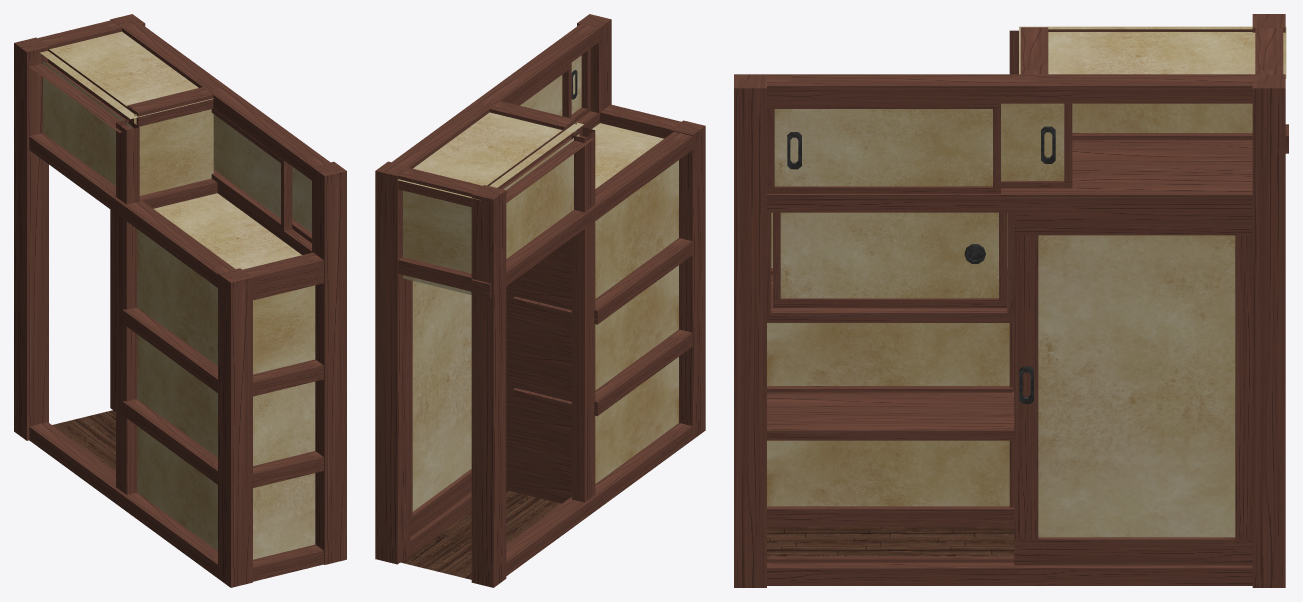
Rendered from SM_wardrobe.fbx.
3 views of the same model, side by side, from view 1: azimuth 30°, elevation 25°; view 2: azimuth 150°, elevation 25°; view 3: azimuth 270°, elevation 25° (orthographic). The views are drawn at different scales.
Parts seen in each view (by area): view 1: SM_wardrobe; view 2: SM_wardrobe; view 3: SM_wardrobe.
Boxes of the visible parts, x1,y1,x2,y2 form: SM_wardrobe: (14,14,346,587); SM_wardrobe: (375,14,705,587); SM_wardrobe: (734,14,1288,587).
Size of the model in its own units: 9559 by 30183 by 30183.
